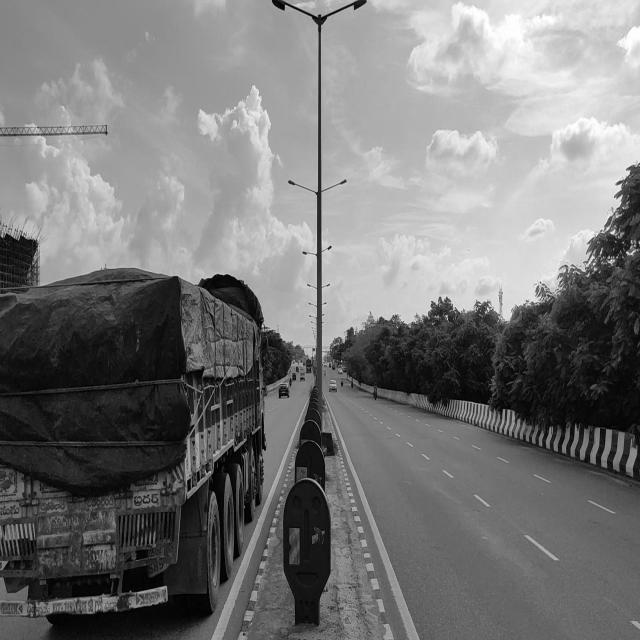truck: (1, 263, 258, 619)
